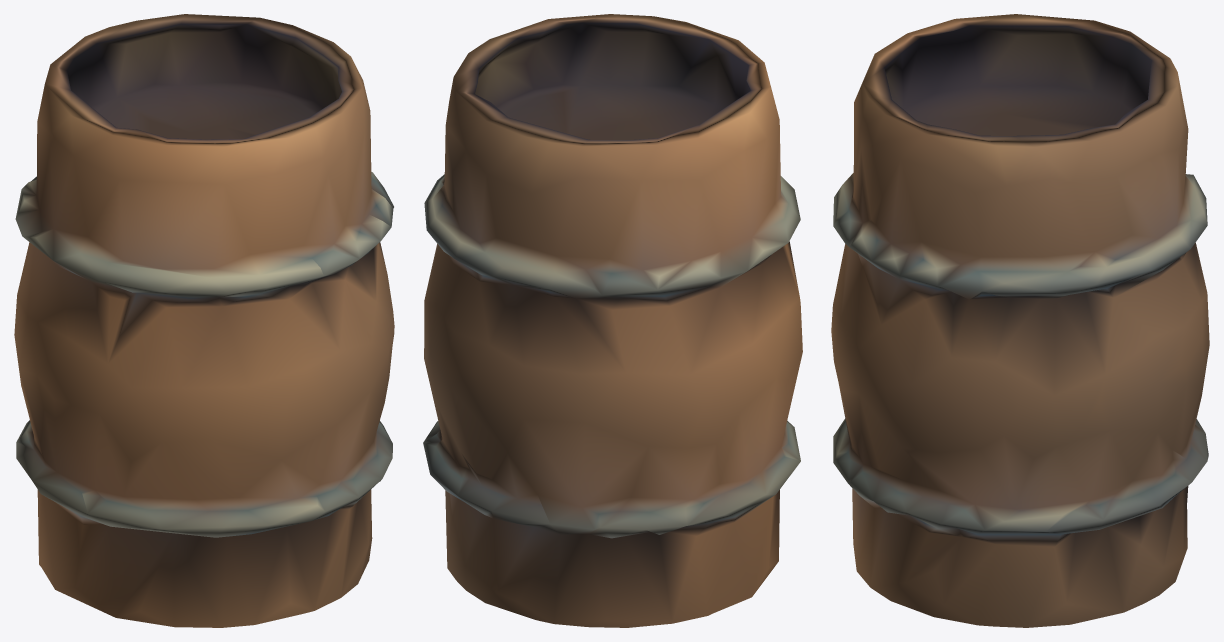
The model's file is env_p_barrel.glb.
3 views of the same model, side by side, from view 1: azimuth 30°, elevation 25°; view 2: azimuth 150°, elevation 25°; view 3: azimuth 270°, elevation 25° (orthographic).
Parts seen in each view (by area): view 1: geometry_0; view 2: geometry_0; view 3: geometry_0.
Part boxes in pixels (bbox=[...]): geometry_0: bbox=[14, 14, 394, 627]; geometry_0: bbox=[423, 14, 802, 627]; geometry_0: bbox=[831, 14, 1209, 627].
Size of the model in its own units: 0.8679 by 1.21 by 0.8615.
